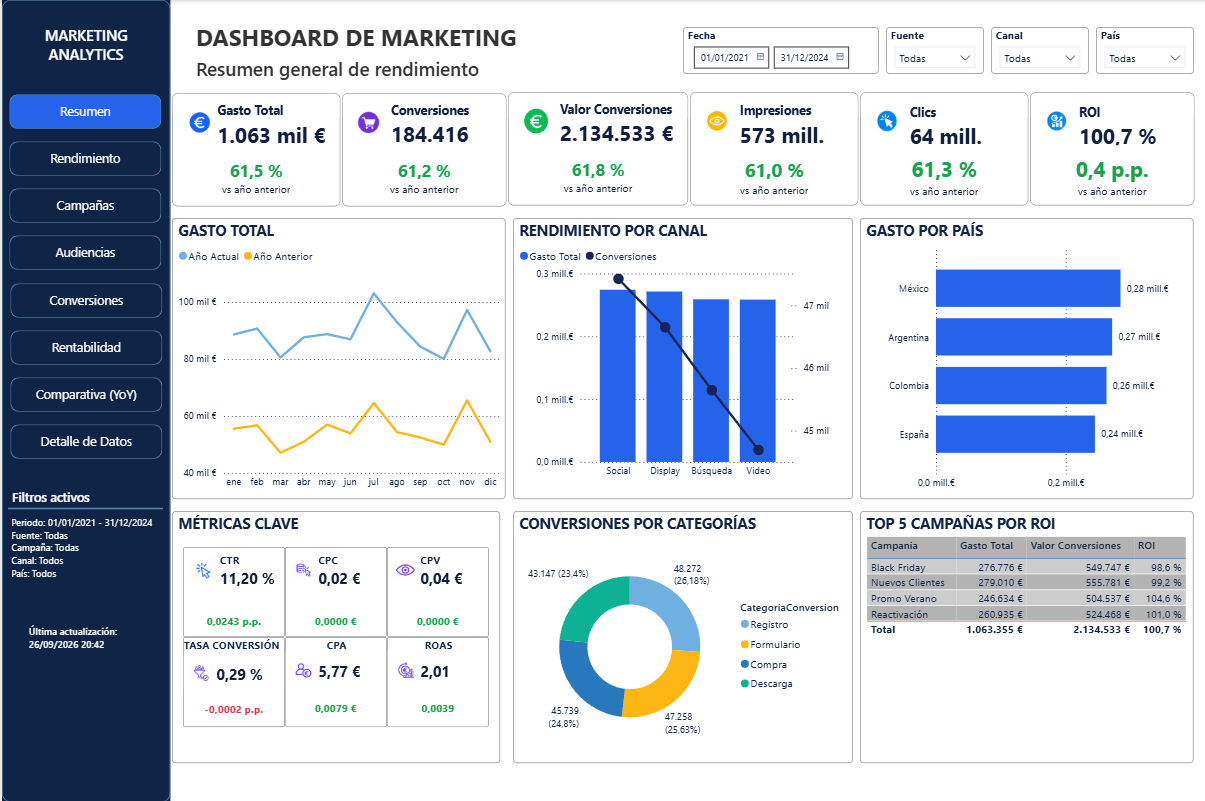

The page's visual inventory and layout, read from the dashboard file:
{"tool":"powerbi","page":{"name":"Resumen","canvas":[1536,1024],"ordinal":0},"visuals":[{"type":"shape","box":[0,0,215,1024],"z":0,"group":"g1"},{"type":"group","id":"g1","title":"Grupo 3","box":[0,0,215,1024],"z":0,"group":"g4"},{"type":"textbox","title":"DASHBOARD DE MARKETING","box":[242.6,26.8,610.3,77.9],"z":0},{"type":"cardVisual","fields":{"Data":["Medidas.CTR","Medidas.Variación CTR YoY p.p."]},"box":[231.1,698.4,130,115],"z":0,"group":"g3"},{"type":"textbox","box":[1.3,26.8,212,68.9],"z":1000,"group":"g1"},{"type":"slicer","title":"País","fields":{"Values":["DimPais.AudienciaPais"]},"box":[1396.8,35,125,60],"z":1000},{"type":"shape","box":[6.4,117.5,200,50],"z":1000,"group":"g4"},{"type":"cardVisual","fields":{"Data":["Medidas.CPC","Medidas.Variación CPC YoY €"]},"box":[361.3,698.4,130,115],"z":1000,"group":"g3"},{"type":"slicer","title":"Fuente","fields":{"Values":["DimFuente.Fuente"]},"box":[1128.8,35,125,60],"z":2000},{"type":"shape","box":[6.6,177.7,200,50],"z":2000,"group":"g4"},{"type":"cardVisual","fields":{"Data":["Medidas.CPV","Medidas.Variación CPV YoY €"]},"box":[491.6,698.4,130,115],"z":2000,"group":"g3"},{"type":"slicer","title":"Canal","fields":{"Values":["DimCanal.CampaniaCanal"]},"box":[1262.8,35,125,60],"z":3000},{"type":"shape","box":[6.7,237.9,200,50],"z":3000,"group":"g4"},{"type":"cardVisual","title":"TASA CONVERSIÓN","fields":{"Data":["Medidas.Tasa de Conversión","Medidas.Variación Tasa Conversión YoY p.p."]},"box":[231.1,813.3,130,115],"z":3000,"group":"g3"},{"type":"cardVisual","fields":{"Data":["Medidas.Gasto Total","Medidas.Variación Gasto YoY %"]},"box":[217.1,118.7,215,145],"z":4000},{"type":"shape","box":[6.9,298,200,50],"z":4000,"group":"g4"},{"type":"cardVisual","title":"CPA","fields":{"Data":["Medidas.CPA","Medidas.Variación CPA YoY €"]},"box":[361.3,813.3,130,115],"z":4000,"group":"g3"},{"type":"cardVisual","fields":{"Data":["Medidas.Conversiones","Medidas.Variación Conversiones YoY %"]},"box":[434.2,119,210,145],"z":5000},{"type":"shape","box":[7.1,358.2,200,50],"z":5000,"group":"g4"},{"type":"cardVisual","title":"ROAS","fields":{"Data":["Medidas.ROAS","Medidas.Variación ROAS YoY"]},"box":[491.6,813.3,130,115],"z":5000,"group":"g3"},{"type":"cardVisual","fields":{"Data":["Medidas.Valor Conversiones","Medidas.Variación Valor Conversiones YoY %"]},"box":[646.3,118,230,145],"z":6000},{"type":"shape","box":[7.3,418.4,200,50],"z":6000,"group":"g4"},{"type":"cardVisual","fields":{"Data":["Medidas.Impresiones","Medidas.Variación Impresiones YoY %"]},"box":[878.4,118,215,145],"z":7000},{"type":"shape","box":[7.5,478.6,200,50],"z":7000,"group":"g4"},{"type":"textbox","title":"MÉTRICAS CLAVE","box":[217.1,652.4,418.8,321.8],"z":7500,"group":"g2"},{"type":"cardVisual","fields":{"Data":["Medidas.Clics","Medidas.Variación Clics YoY %"]},"box":[1095.5,118,215,145],"z":8000},{"type":"shape","box":[7.7,538.8,200,50],"z":8000,"group":"g4"},{"type":"cardVisual","fields":{"Data":["Medidas.ROI","Medidas.Variación ROI YoY p.p."]},"box":[1312.6,118,210,145],"z":9000},{"type":"textbox","box":[7.7,619.3,199.2,33.2],"z":9000,"group":"g4"},{"type":"lineChart","title":"GASTO TOTAL","fields":{"Category":["DimCalendar.MesCorto"],"Y":["Medidas.Gasto Total","Medidas.Gasto Año Anterior"]},"box":[217.1,278.3,426.5,358.8],"z":10000},{"type":"lineClusteredColumnComboChart","title":"RENDIMIENTO POR CANAL","fields":{"Category":["DimCanal.CampaniaCanal"],"Y":["Medidas.Gasto Total"],"Y2":["Medidas.Conversiones"]},"box":[652.4,278.3,434.1,358.8],"z":11000},{"type":"clusteredBarChart","title":"GASTO POR PAÍS","fields":{"Category":["DimPais.AudienciaPais"],"Y":["Medidas.Gasto Total"]},"box":[1095.5,278.3,426.5,358.8],"z":12000},{"type":"group","id":"g2","title":"Grupo 2","box":[217.1,652.4,418.8,321.8],"z":13000},{"type":"donutChart","title":"CONVERSIONES POR CATEGORÍAS","fields":{"Category":["DimCatConversion.CategoriaConversion"],"Y":["Medidas.Conversiones"]},"box":[652.4,652.4,434.1,321.8],"z":14000},{"type":"tableEx","title":"TOP 5 CAMPAÑAS POR ROI","fields":{"Values":["DimCampania.CampaniaNombre","Medidas.Gasto Total","Medidas.Valor Conversiones","Medidas.ROI"]},"box":[1095.5,652.4,426.5,321.8],"z":15000},{"type":"group","id":"g3","title":"Grupo 1","box":[231.1,698.4,390.7,229.8],"z":15000,"group":"g2"},{"type":"slicer","title":"Fecha","fields":{"Values":["DimCalendar.Fecha"]},"box":[869.5,35,250.3,60],"z":16000},{"type":"group","id":"g4","title":"Grupo 4","box":[0,0,214.5,1024],"z":17000},{"type":"cardVisual","fields":{"Data":["Medidas.Última Actualización"]},"box":[20.4,766.1,169.8,93.2],"z":18000},{"type":"cardVisual","fields":{"Data":["_Medidas.Filtros Activos - Resumen"]},"box":[0,623.1,213.2,150.7],"z":19000},{"type":"shape","box":[7.7,635.9,197.9,26.8],"z":20000}]}

Visuals, with their boxes in screenshot pixels (x1, y1, x2, y2), scaled from the page's 1536x1024 canvas onto the 1205x801 screenshot:
shape: box(0, 0, 169, 800)
"Grupo 3" group: box(0, 0, 169, 800)
"DASHBOARD DE MARKETING" textbox: box(190, 21, 669, 82)
cardVisual - Medidas.CTR x Medidas.Variación CTR YoY p.p.: box(181, 546, 283, 636)
textbox: box(1, 21, 167, 75)
"País" slicer: box(1096, 27, 1194, 74)
shape: box(5, 92, 162, 131)
cardVisual - Medidas.CPC x Medidas.Variación CPC YoY €: box(283, 546, 385, 636)
"Fuente" slicer: box(886, 27, 984, 74)
shape: box(5, 139, 162, 178)
cardVisual - Medidas.CPV x Medidas.Variación CPV YoY €: box(386, 546, 488, 636)
"Canal" slicer: box(991, 27, 1089, 74)
shape: box(5, 186, 162, 225)
"TASA CONVERSIÓN" cardVisual: box(181, 636, 283, 726)
cardVisual - Medidas.Gasto Total x Medidas.Variación Gasto YoY %: box(170, 93, 339, 206)
shape: box(5, 233, 162, 272)
"CPA" cardVisual: box(283, 636, 385, 726)
cardVisual - Medidas.Conversiones x Medidas.Variación Conversiones YoY %: box(341, 93, 505, 207)
shape: box(6, 280, 162, 319)
"ROAS" cardVisual: box(386, 636, 488, 726)
cardVisual - Medidas.Valor Conversiones x Medidas.Variación Valor Conversiones YoY %: box(507, 92, 687, 206)
shape: box(6, 327, 163, 366)
cardVisual - Medidas.Impresiones x Medidas.Variación Impresiones YoY %: box(689, 92, 858, 206)
shape: box(6, 374, 163, 413)
"MÉTRICAS CLAVE" textbox: box(170, 510, 499, 762)
cardVisual - Medidas.Clics x Medidas.Variación Clics YoY %: box(859, 92, 1028, 206)
shape: box(6, 421, 163, 461)
cardVisual - Medidas.ROI x Medidas.Variación ROI YoY p.p.: box(1030, 92, 1194, 206)
textbox: box(6, 484, 162, 510)
"GASTO TOTAL" lineChart: box(170, 218, 505, 498)
"RENDIMIENTO POR CANAL" lineClusteredColumnComboChart: box(512, 218, 852, 498)
"GASTO POR PAÍS" clusteredBarChart: box(859, 218, 1194, 498)
"Grupo 2" group: box(170, 510, 499, 762)
"CONVERSIONES POR CATEGORÍAS" donutChart: box(512, 510, 852, 762)
"TOP 5 CAMPAÑAS POR ROI" tableEx: box(859, 510, 1194, 762)
"Grupo 1" group: box(181, 546, 488, 726)
"Fecha" slicer: box(682, 27, 878, 74)
"Grupo 4" group: box(0, 0, 168, 800)
cardVisual - Medidas.Última Actualización: box(16, 599, 149, 672)
cardVisual - _Medidas.Filtros Activos - Resumen: box(0, 487, 167, 605)
shape: box(6, 497, 161, 518)
